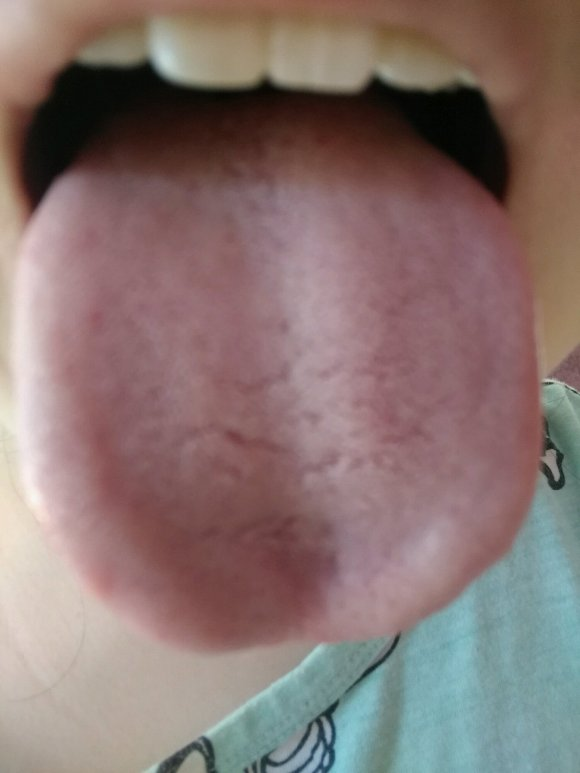baitaishe: (12, 95, 542, 653)
